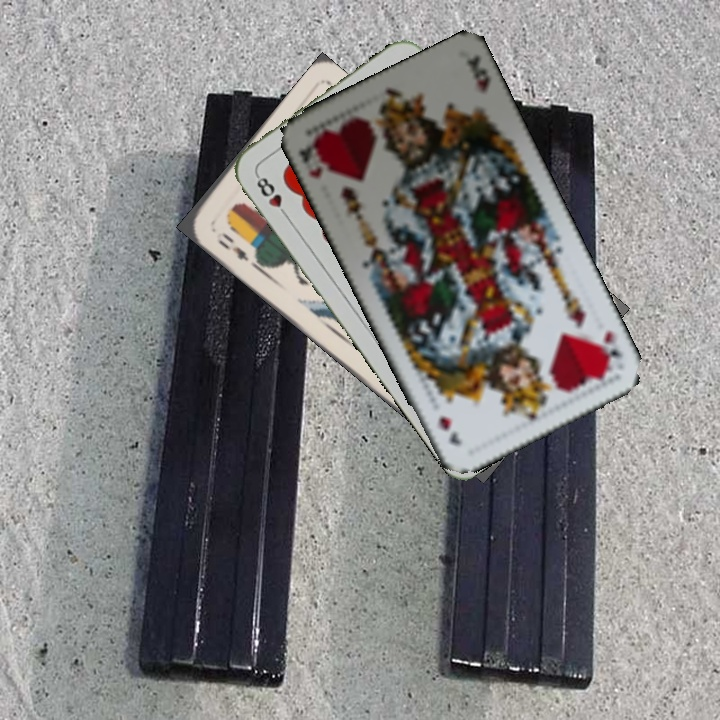EO: (212, 228, 252, 264)
H8: (252, 170, 292, 221)
HK: (294, 135, 333, 182), (594, 326, 622, 373)
